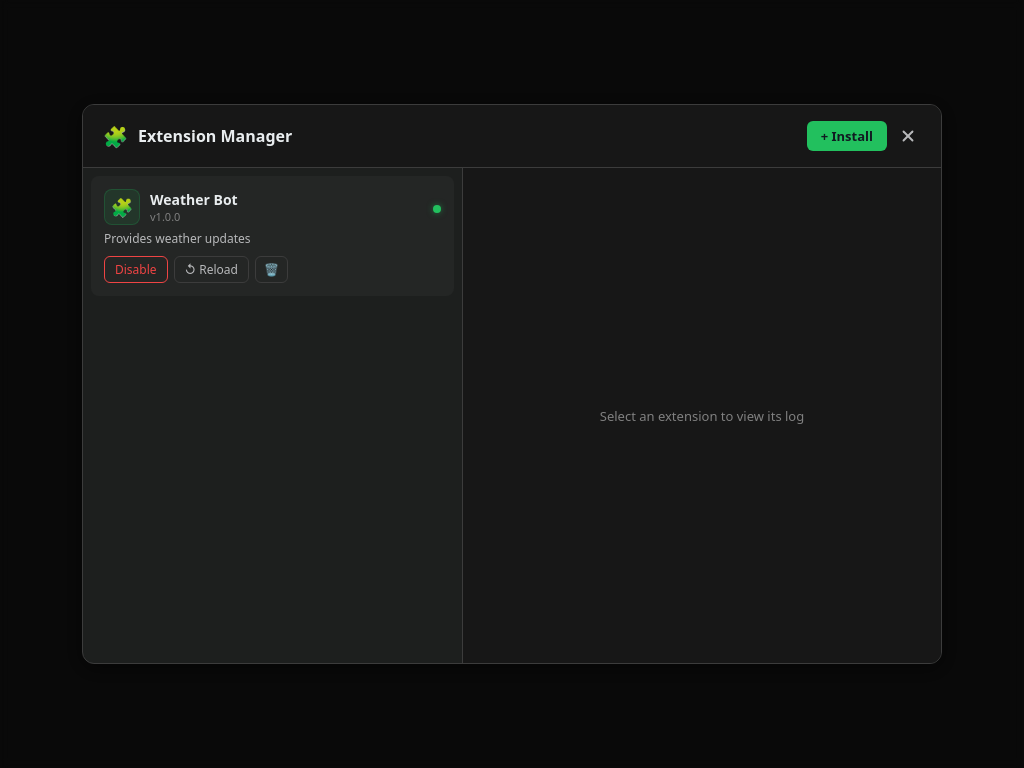
Test: ExtensionManager › reports reload and uninstall failures instead of leaking unhandled rejections
The image size is (1024, 768).
Expected: the text "Weather Bot" is shown, [150,190,238,209]
Click the button titled "Reload extension" at (211, 269), box [174,256,249,283]
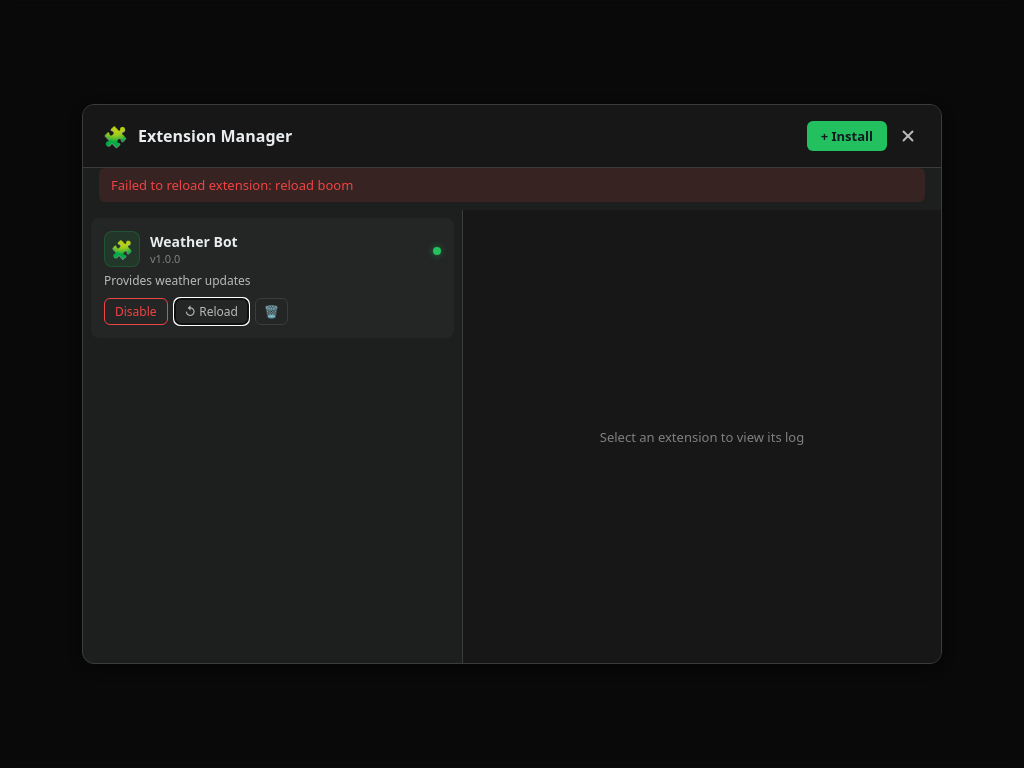
Result: the message shows "reload boom" at [111,176,353,194]
Click the button titled "Uninstall extension" at (271, 311), box [255,298,288,325]
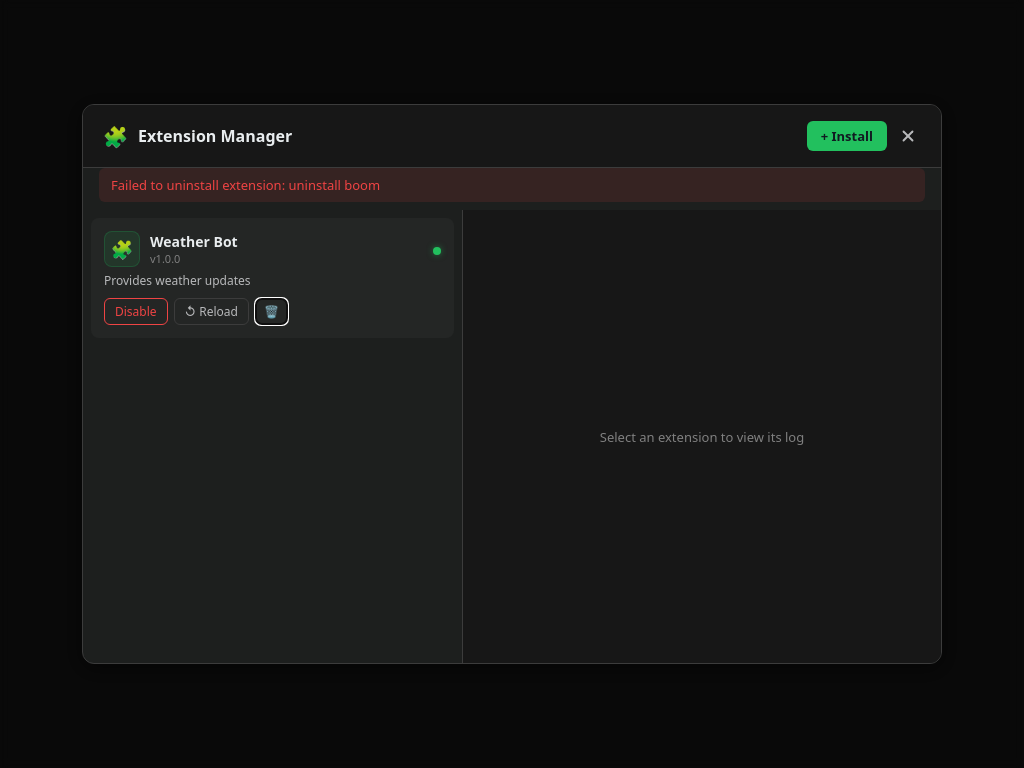
Result: the message shows "uninstall boom" at [111,176,380,194]
